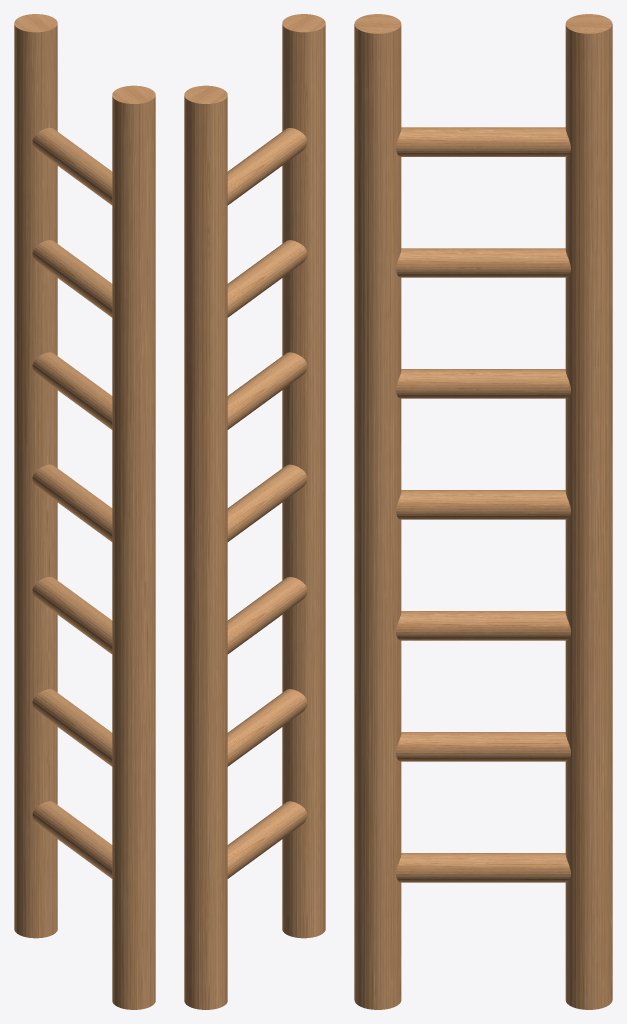
The model's file is ladder.fbx.
3 views of the same model, side by side, from view 1: azimuth 30°, elevation 25°; view 2: azimuth 150°, elevation 25°; view 3: azimuth 270°, elevation 25° (orthographic). The views are drawn at different scales.
Visible parts, largest first — view 1: Cylinder.001, Cylinder.002; view 2: Cylinder.001, Cylinder.002; view 3: Cylinder.001, Cylinder.002.
Boxes of the visible parts, x1,y1,x2,y2 form: Cylinder.001: (14, 14, 155, 1009); Cylinder.002: (32, 128, 112, 878); Cylinder.001: (184, 14, 325, 1009); Cylinder.002: (227, 128, 307, 878); Cylinder.001: (354, 14, 612, 1009); Cylinder.002: (396, 127, 570, 882).
Size of the model in its own units: 134 by 3074 by 736.
Materials: 1 (1 with a texture image).
